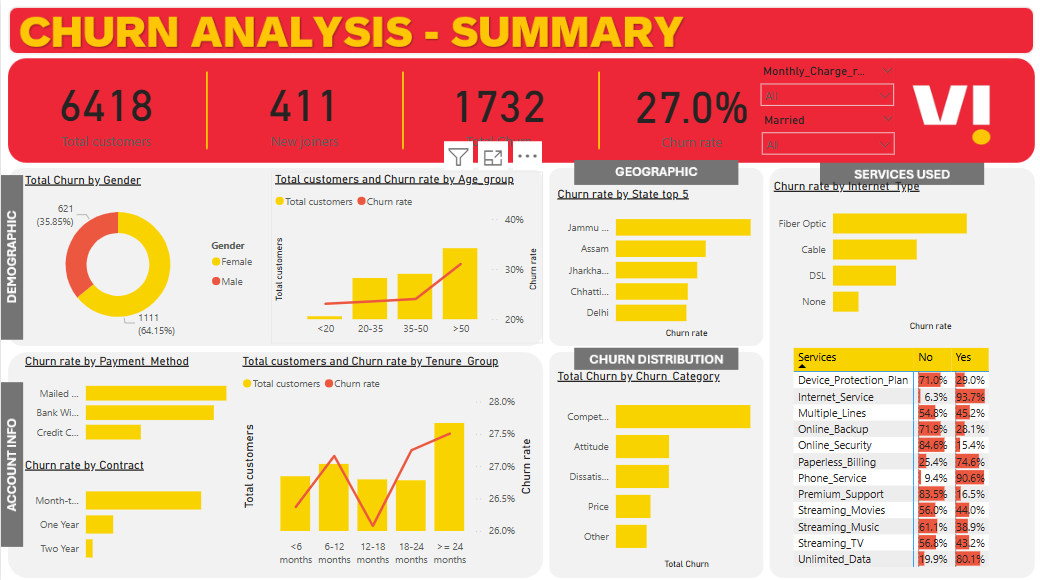

This screenshot's page, from the dashboard's own definition file:
{"tool":"powerbi","page":{"name":"Summary","canvas":[1280,720],"ordinal":0},"visuals":[{"type":"card","fields":{"Values":["tbl_measures.Total customers"]},"box":[24.5,75.5,209.4,120.8],"z":0},{"type":"card","fields":{"Values":["tbl_measures.Churn rate"]},"box":[743.8,82.8,214.1,109.4],"z":1000},{"type":"card","fields":{"Values":["tbl_measures.Total Churn"]},"box":[503.8,77.4,218.9,118.9],"z":2000},{"type":"card","fields":{"Values":["tbl_measures.New joiners"]},"box":[267.9,75.5,211.3,120.8],"z":3000},{"type":"donutChart","fields":{"Category":["Customer_Data.Gender"],"Y":["tbl_measures.Total Churn"]},"box":[24.5,213.2,300,209.4],"z":4000},{"type":"lineStackedColumnComboChart","fields":{"Category":["mapping_agegrp.Age_group"],"Y":["tbl_measures.Total customers"],"Y2":["tbl_measures.Churn rate"]},"box":[333,213,334,212],"z":5000},{"type":"clusteredBarChart","fields":{"Category":["Customer_Data.Payment_Method"],"Y":["tbl_measures.Churn rate"]},"box":[25,437,268,121],"z":6000},{"type":"clusteredBarChart","fields":{"Category":["Customer_Data.Contract"],"Y":["tbl_measures.Churn rate"]},"box":[25,565,268,141],"z":7000},{"type":"lineStackedColumnComboChart","fields":{"Category":["mapping_tenuregrp.Tenure_Group"],"Y":["tbl_measures.Total customers"],"Y2":["tbl_measures.Churn rate"]},"box":[293,437,367,269],"z":8000},{"type":"clusteredBarChart","title":"Churn rate by State top 5","fields":{"Category":["Customer_Data.State"],"Y":["tbl_measures.Churn rate"]},"box":[680,230,256,192],"z":9000},{"type":"clusteredBarChart","fields":{"Category":["Customer_Data.Churn_Category"],"Y":["tbl_measures.Total Churn"]},"box":[680,455,256,251],"z":10000},{"type":"clusteredBarChart","fields":{"Category":["Customer_Data.Internet_Type"],"Y":["tbl_measures.Churn rate"]},"box":[946.9,221.9,323.4,192.2],"z":11000},{"type":"pivotTable","title":"Churn by Services","fields":{"Rows":["Customer_services.Services"],"Columns":["Customer_services.Status"],"Values":["Sum(Customer_services.Churn status)"]},"box":[970,424,301,282],"z":12000},{"type":"slicer","fields":{"Values":["Customer_services.Monthly_Charge"]},"box":[924.5,75.5,184.7,63.3],"z":13000},{"type":"slicer","fields":{"Values":["Customer_services.Married"]},"box":[925.5,135.7,183.7,67.3],"z":14000}]}

Visuals, with their boxes in screenshot pixels (x1, y1, x2, y2), scaled from the page's 1280x720 canvas onto the 1040x580 screenshot:
card - tbl_measures.Total customers: region(20, 61, 190, 158)
card - tbl_measures.Churn rate: region(604, 67, 778, 155)
card - tbl_measures.Total Churn: region(409, 62, 587, 158)
card - tbl_measures.New joiners: region(218, 61, 389, 158)
donutChart - Customer_Data.Gender x tbl_measures.Total Churn: region(20, 172, 264, 340)
lineStackedColumnComboChart - mapping_agegrp.Age_group x tbl_measures.Total customers: region(271, 172, 542, 342)
clusteredBarChart - Customer_Data.Payment_Method x tbl_measures.Churn rate: region(20, 352, 238, 450)
clusteredBarChart - Customer_Data.Contract x tbl_measures.Churn rate: region(20, 455, 238, 569)
lineStackedColumnComboChart - mapping_tenuregrp.Tenure_Group x tbl_measures.Total customers: region(238, 352, 536, 569)
"Churn rate by State top 5" clusteredBarChart: region(552, 185, 760, 340)
clusteredBarChart - Customer_Data.Churn_Category x tbl_measures.Total Churn: region(552, 367, 760, 569)
clusteredBarChart - Customer_Data.Internet_Type x tbl_measures.Churn rate: region(769, 179, 1032, 334)
"Churn by Services" pivotTable: region(788, 342, 1033, 569)
slicer - Customer_services.Monthly_Charge: region(751, 61, 901, 112)
slicer - Customer_services.Married: region(752, 109, 901, 164)
